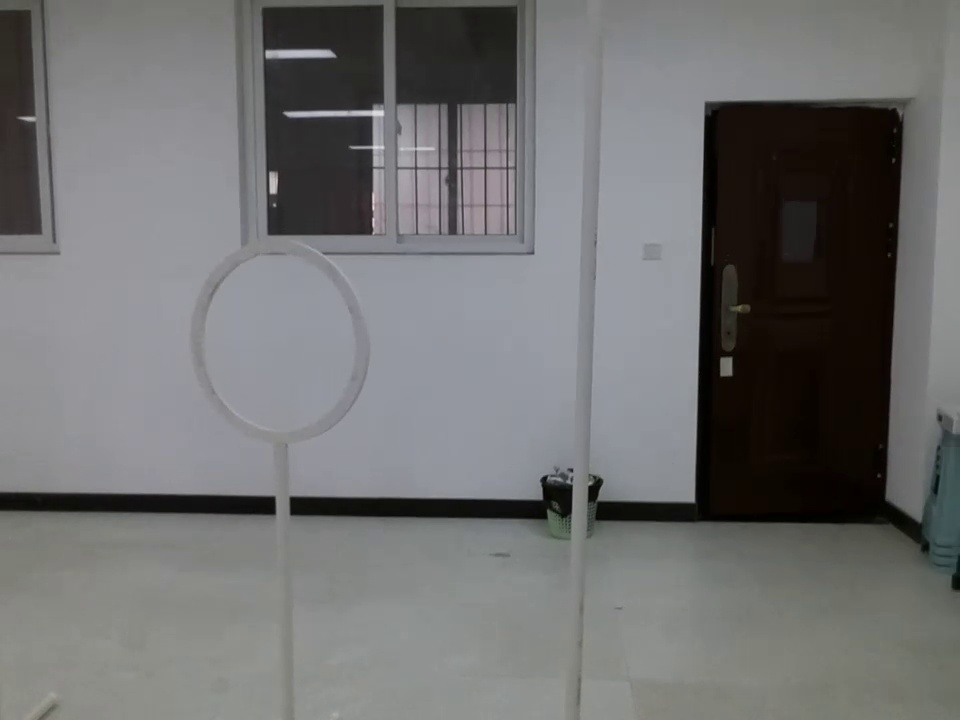gan: (567, 5, 605, 720)
quan: (158, 231, 372, 472)
